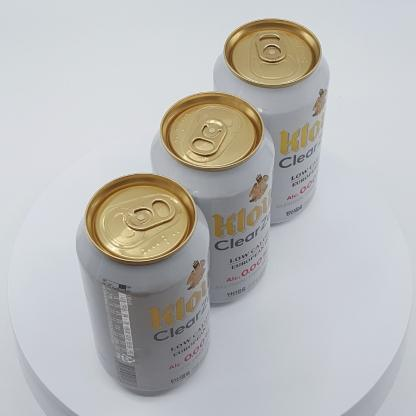--------------350ML: (76, 173, 210, 391), (150, 91, 275, 303), (213, 18, 330, 224)
